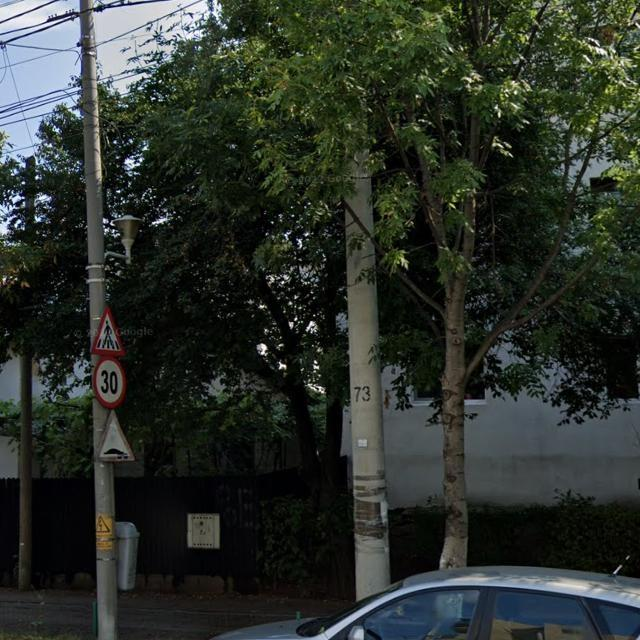forb_speed_over_30: (94, 358, 130, 407)
warn_crosswalk: (93, 304, 123, 357)
